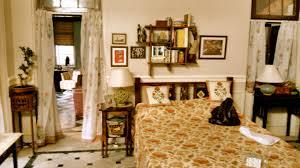bed: (134, 76, 300, 168)
chair: (59, 69, 80, 94)
light: (108, 69, 133, 105), (256, 64, 282, 96), (52, 0, 88, 15)
table: (251, 88, 300, 140), (102, 104, 132, 159), (0, 130, 23, 168), (72, 87, 84, 121)
